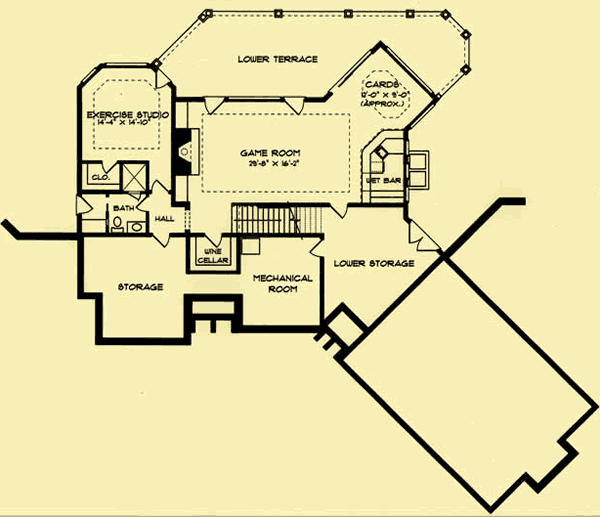bathroom is accaesible from hall and has a small and large sink: (76, 193, 188, 240)
stairs to the other floors: (226, 199, 337, 246)
there is a game room in between: (173, 90, 358, 199)
